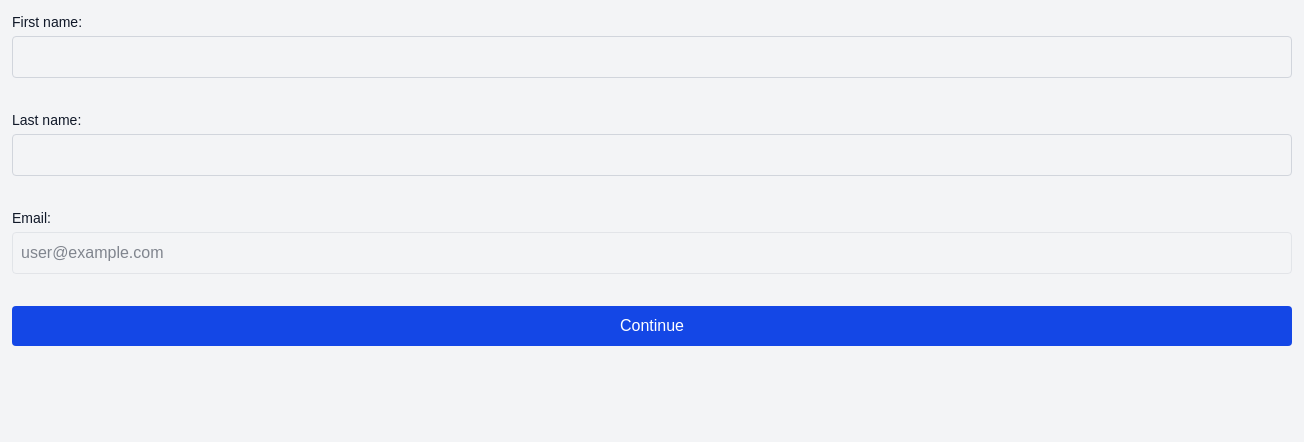
Test case: CompleteSignUpForm › errors › shows registerUser failure message
Step 1. Type "Jane" into the field labelled "First name:" → (652, 57), box x1=12 y1=36 x2=1292 y2=78
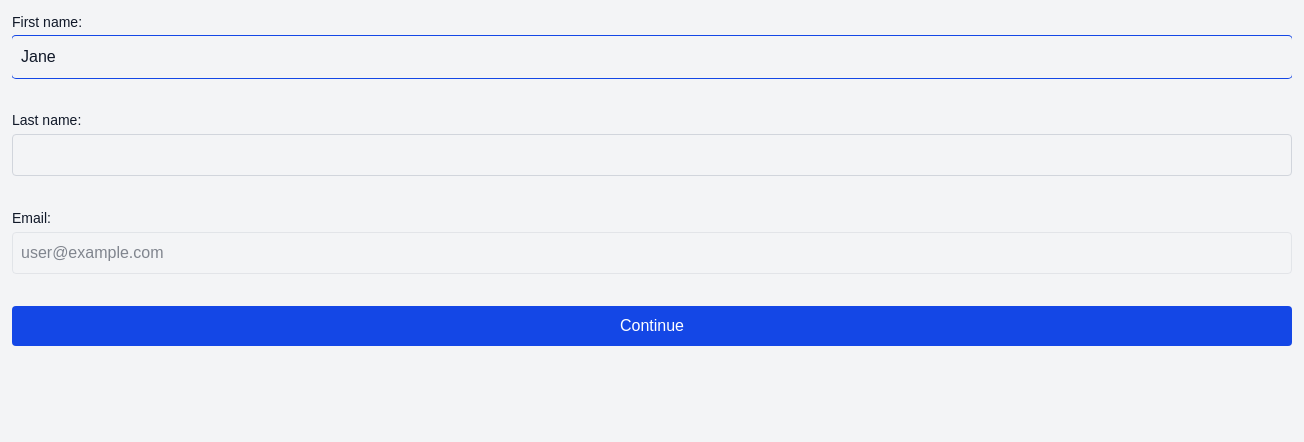
Step 2. Type "Doe" into the field labelled "Last name:" → (652, 155), box x1=12 y1=134 x2=1292 y2=176
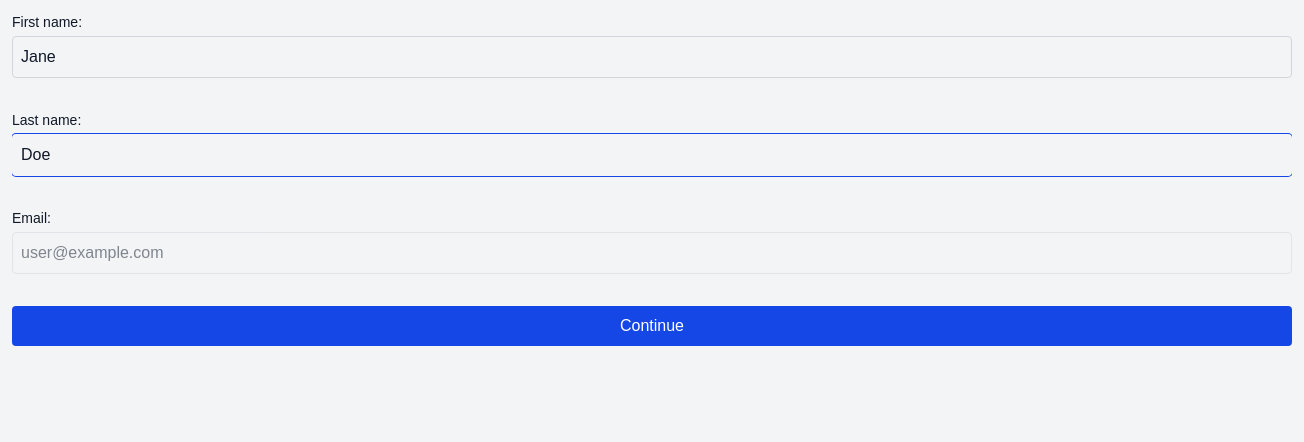
Step 3. Click the button "Continue" → click(652, 326), box x1=12 y1=306 x2=1292 y2=346
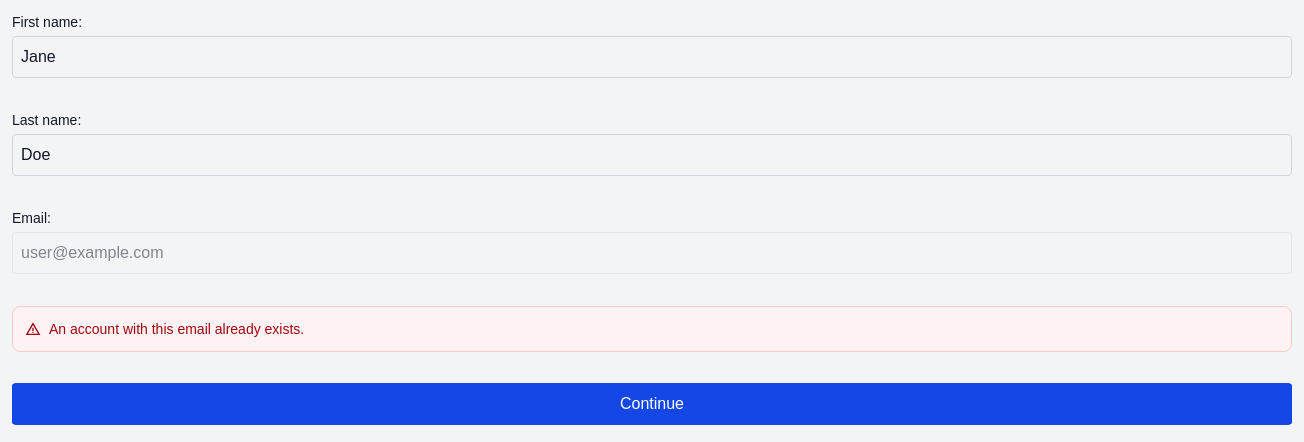
Now the text "An account with this email already exists." is shown, box x1=25 y1=321 x2=304 y2=337
